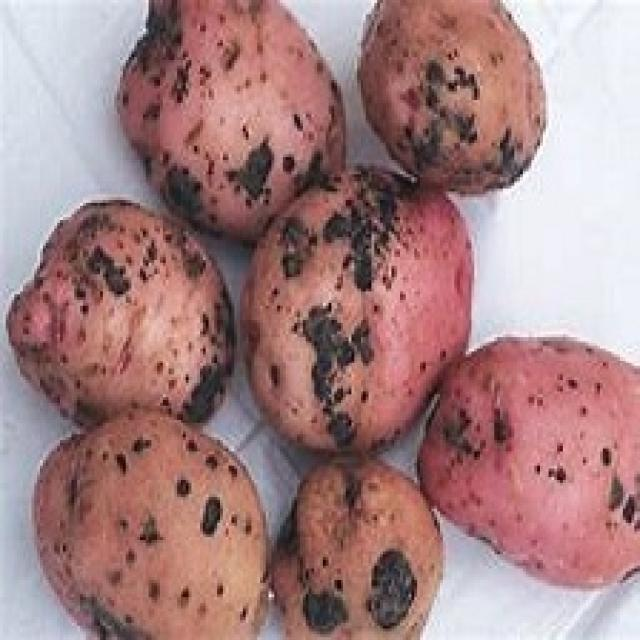black_scurf: (4, 185, 272, 640), (102, 0, 564, 255), (251, 165, 482, 469), (407, 324, 640, 597), (268, 427, 450, 640)
